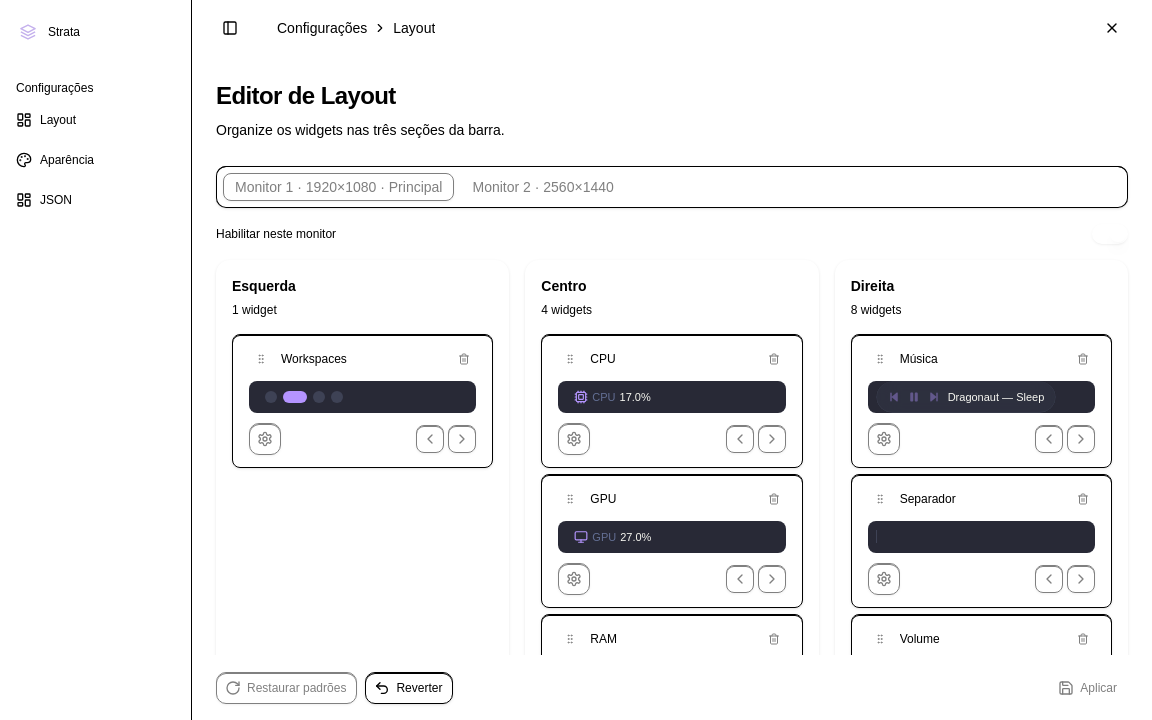
Test: blocks editing and saving defaults after a failed initial load until Reverter succeeds
The image size is (1152, 720).
Expected: the button "Aplicar" is disabled, left=1049, top=672, right=1128, bottom=704
Expected: the button "Restaurar padrões" is disabled, left=216, top=672, right=357, bottom=704
Click the button "JSON" at (96, 200), box left=8, top=184, right=183, bottom=216
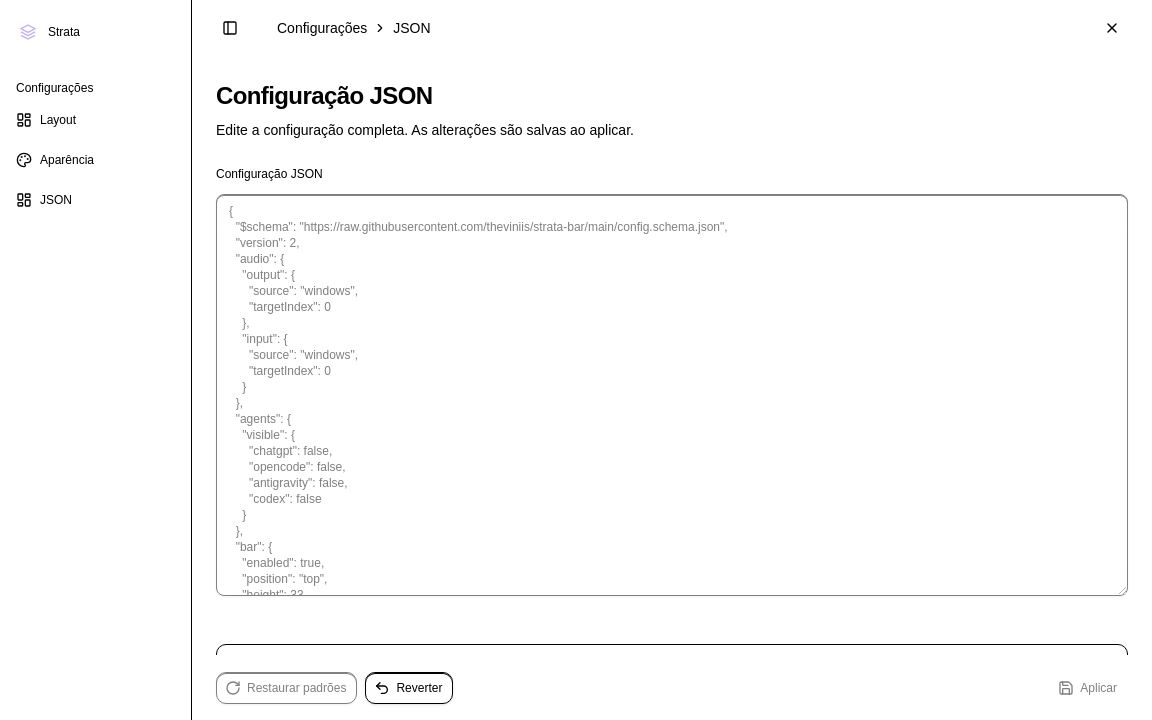
Expected: the text box labelled "Configuração JSON" is disabled, left=216, top=194, right=1128, bottom=596
Click the button "Reverter" at (409, 688), box left=365, top=672, right=453, bottom=704
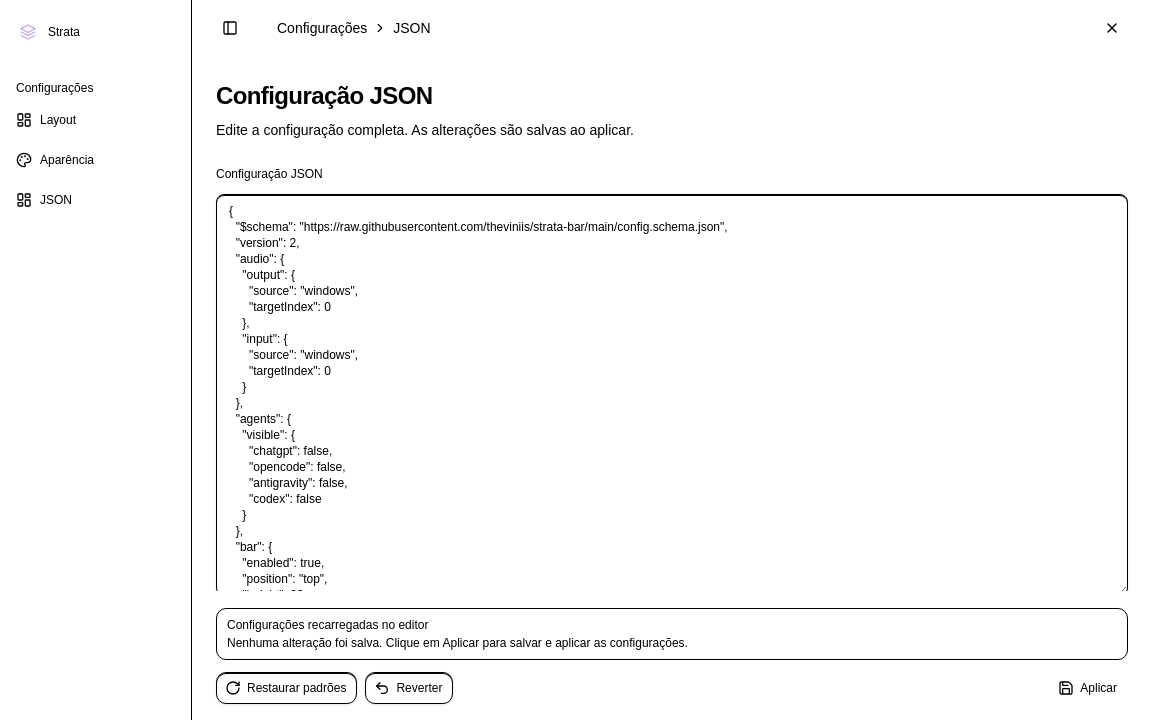
Expected: the text box labelled "Configuração JSON" is enabled, left=216, top=194, right=1128, bottom=591
Expected: the button "Aplicar" is enabled, left=1049, top=672, right=1128, bottom=704
